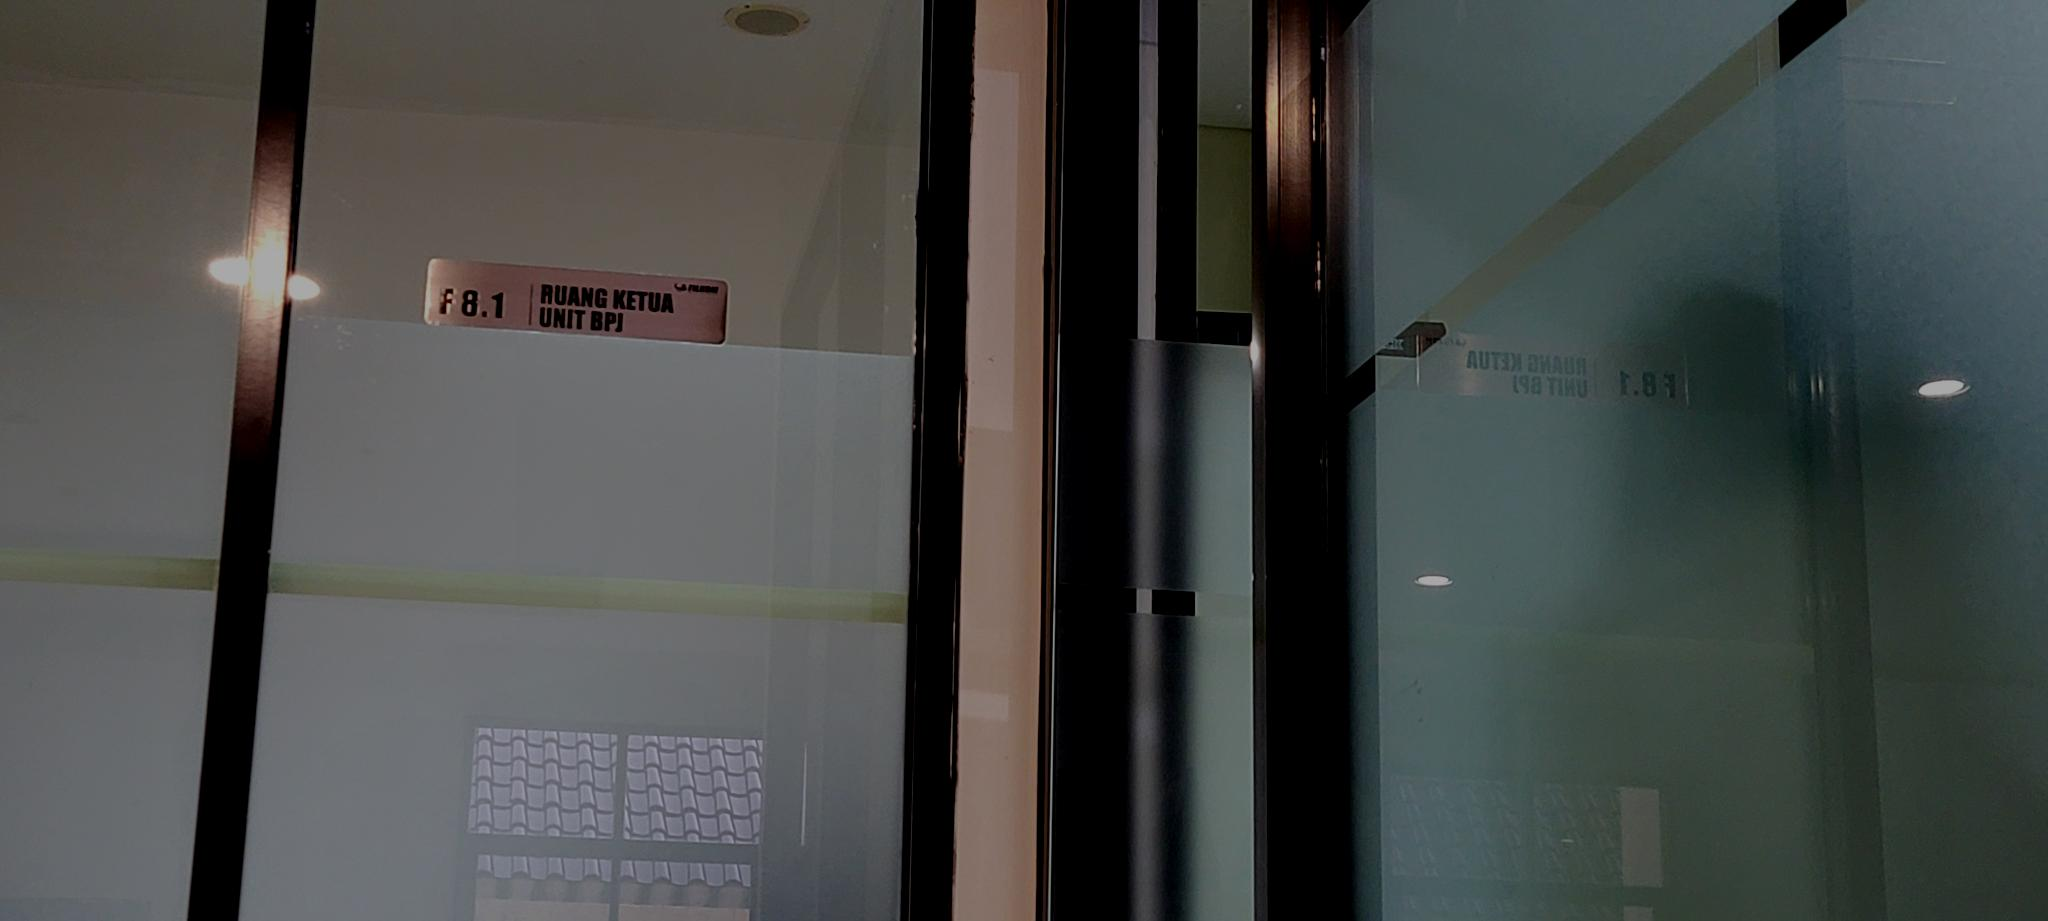plate: (417, 255, 731, 347)
